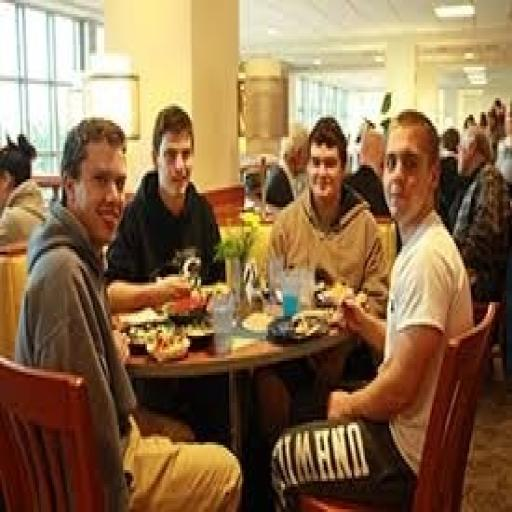eating: (10, 95, 496, 507)
